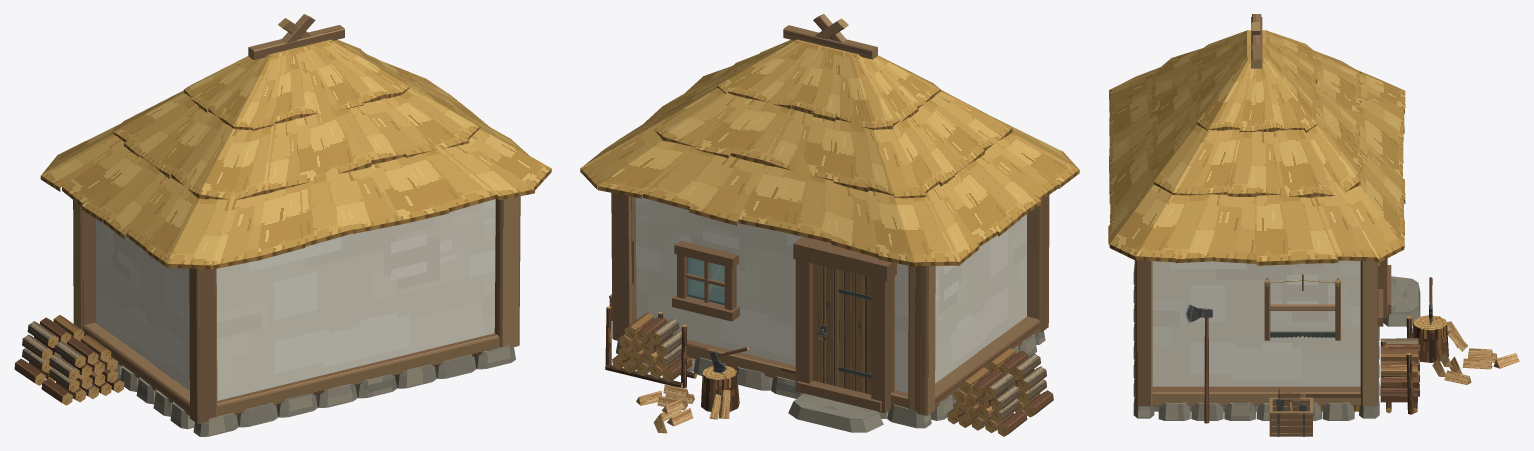
The model's file is woodcutter_hut.glb.
The picture shows the model from 3 angles, left to right: view 1: azimuth 30°, elevation 25°; view 2: azimuth 150°, elevation 25°; view 3: azimuth 270°, elevation 25°; orthographic projection. The views are drawn at different scales.
Parts seen in each view (by area): view 1: WoodcutterHut, WoodcutterHut.001; view 2: WoodcutterHut, WoodcutterHut.001; view 3: WoodcutterHut, WoodcutterHut.001.
Part boxes in pixels (x1,y1,x2,y2): WoodcutterHut: (40,14,551,436); WoodcutterHut.001: (14,315,124,405); WoodcutterHut: (580,14,1079,432); WoodcutterHut.001: (605,306,1053,436); WoodcutterHut: (1108,14,1420,436); WoodcutterHut.001: (1185,277,1519,423).
Bounding box in the file's own units: 2.88 × 2.15 × 2.46.
2 materials, 2 textured.
